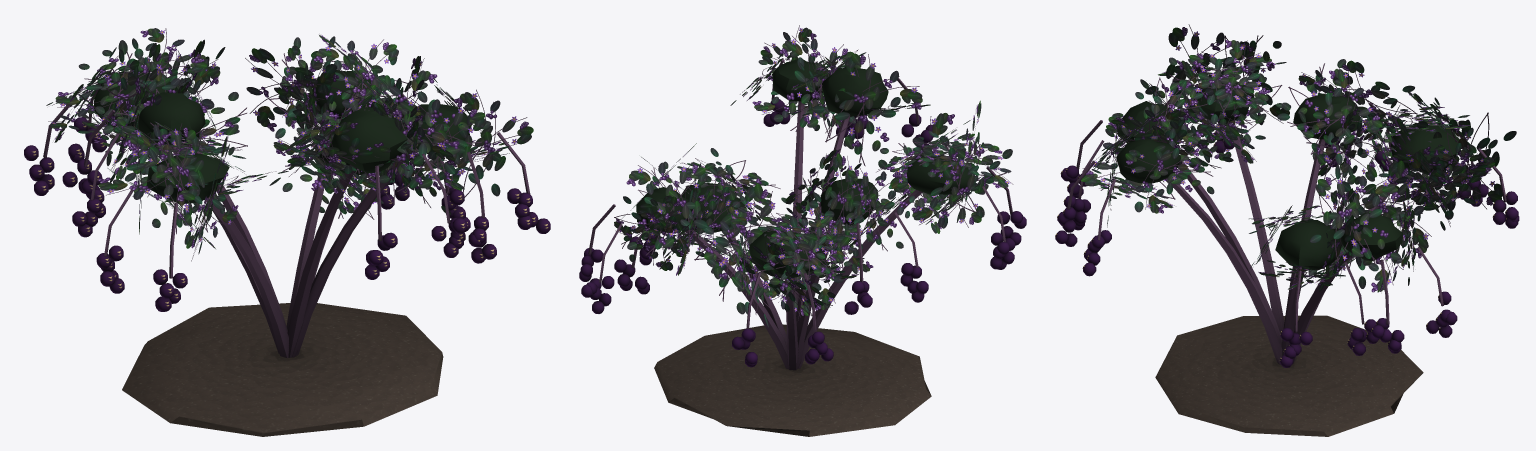
File: NightshadeShrub.fbx
3 views of the same model, side by side, from view 1: azimuth 30°, elevation 25°; view 2: azimuth 150°, elevation 25°; view 3: azimuth 270°, elevation 25° (orthographic). The views are drawn at different scales.
Visible parts, largest first — view 1: NightshadeShrub_Main, NightshadeShrub_Leaves, NightshadeShrub_Glow; view 2: NightshadeShrub_Main, NightshadeShrub_Leaves; view 3: NightshadeShrub_Main, NightshadeShrub_Leaves.
Boxes of the visible parts, x1,y1,x2,y2 form: NightshadeShrub_Main: (24,70,550,436); NightshadeShrub_Leaves: (46,28,533,261); NightshadeShrub_Glow: (32,123,548,306); NightshadeShrub_Main: (579,59,1026,436); NightshadeShrub_Leaves: (614,25,1013,327); NightshadeShrub_Main: (1055,81,1519,436); NightshadeShrub_Leaves: (1081,24,1516,292).
Size of the model in its own units: 405 by 320 by 435.
